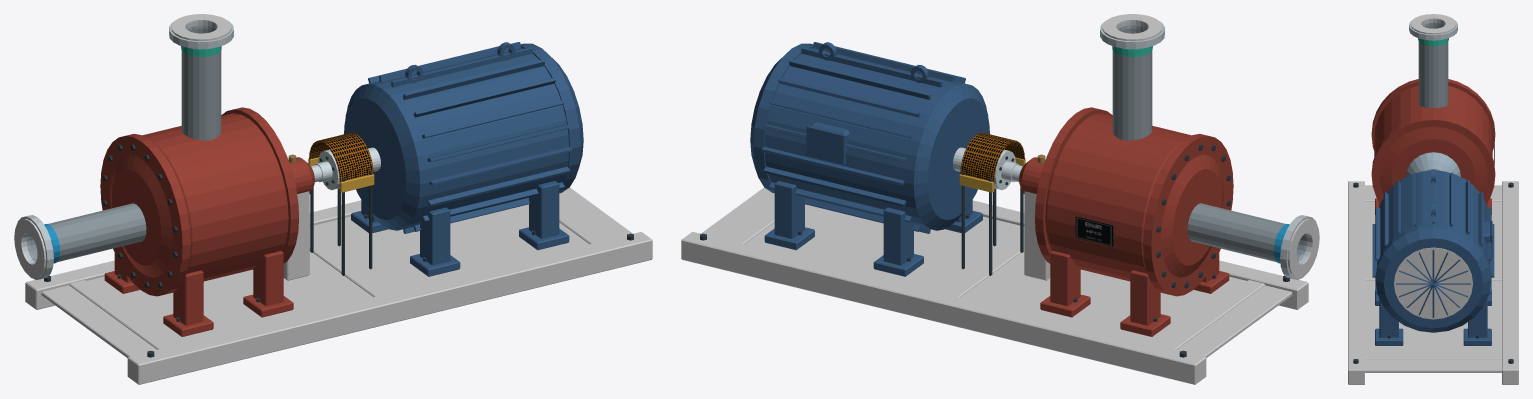
Rendered from compact.obj.
3 renders of one model, left to right at view 1: azimuth 30°, elevation 25°; view 2: azimuth 150°, elevation 25°; view 3: azimuth 270°, elevation 25°, orthographic. The views are drawn at different scales.
Bounding box in the file's own units: 0.9 × 0.4369 × 0.3124.
